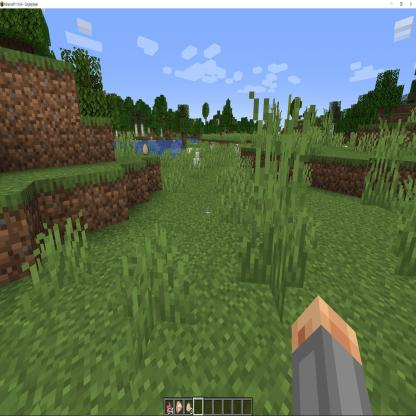minecraft-pigs: (195, 155, 228, 229)
